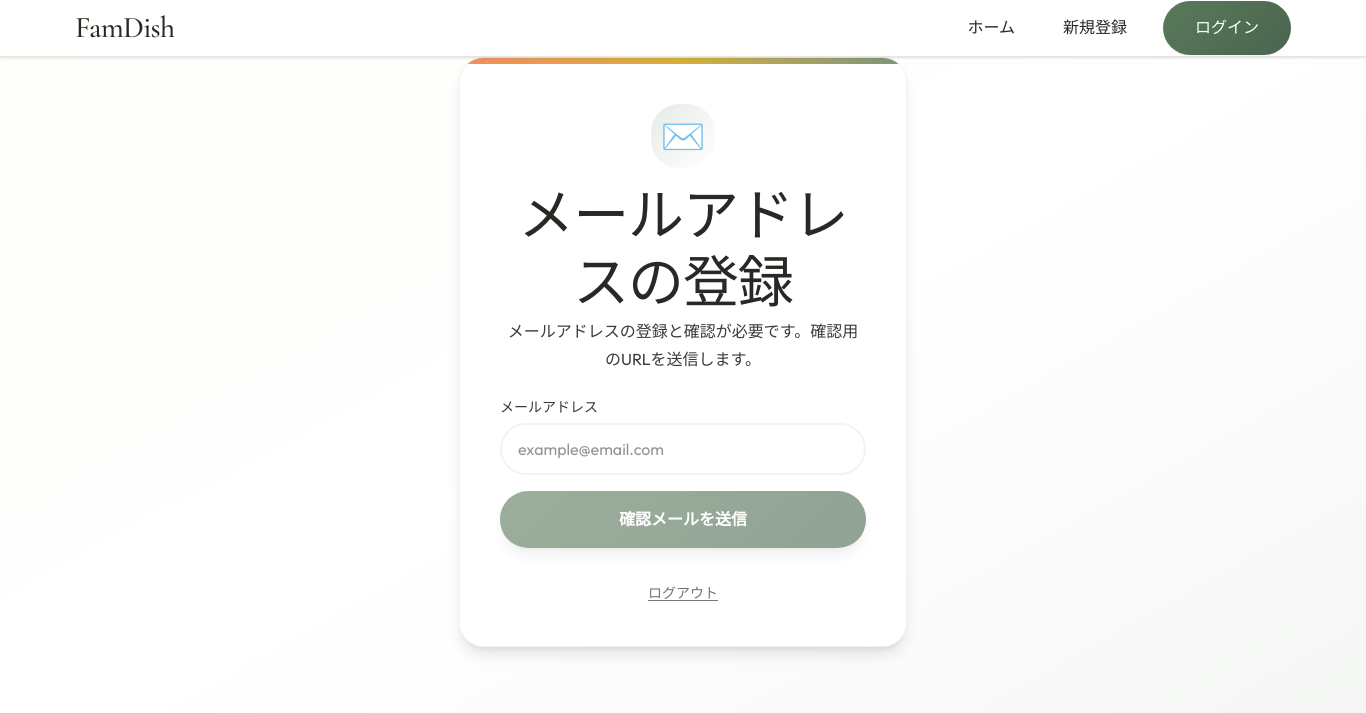
Test: RegisterEmailPage › 確認ダイアログの「キャンセル」でダイアログが閉じる
The image size is (1366, 713).
Type "existing@example.com" into the field labelled "メールアドレス". click: (683,449)
box: left=500, top=423, right=866, bottom=475
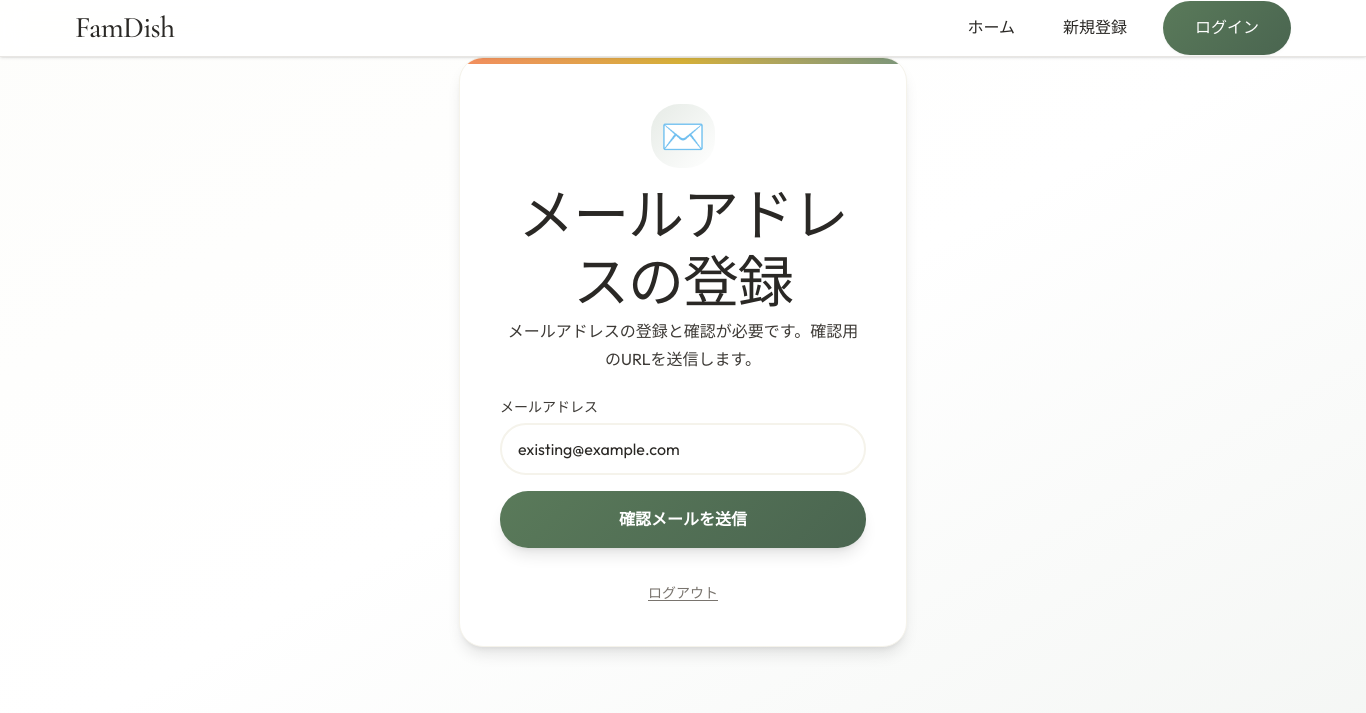
Submit the text "確認メールを送信", box left=500, top=397, right=866, bottom=548
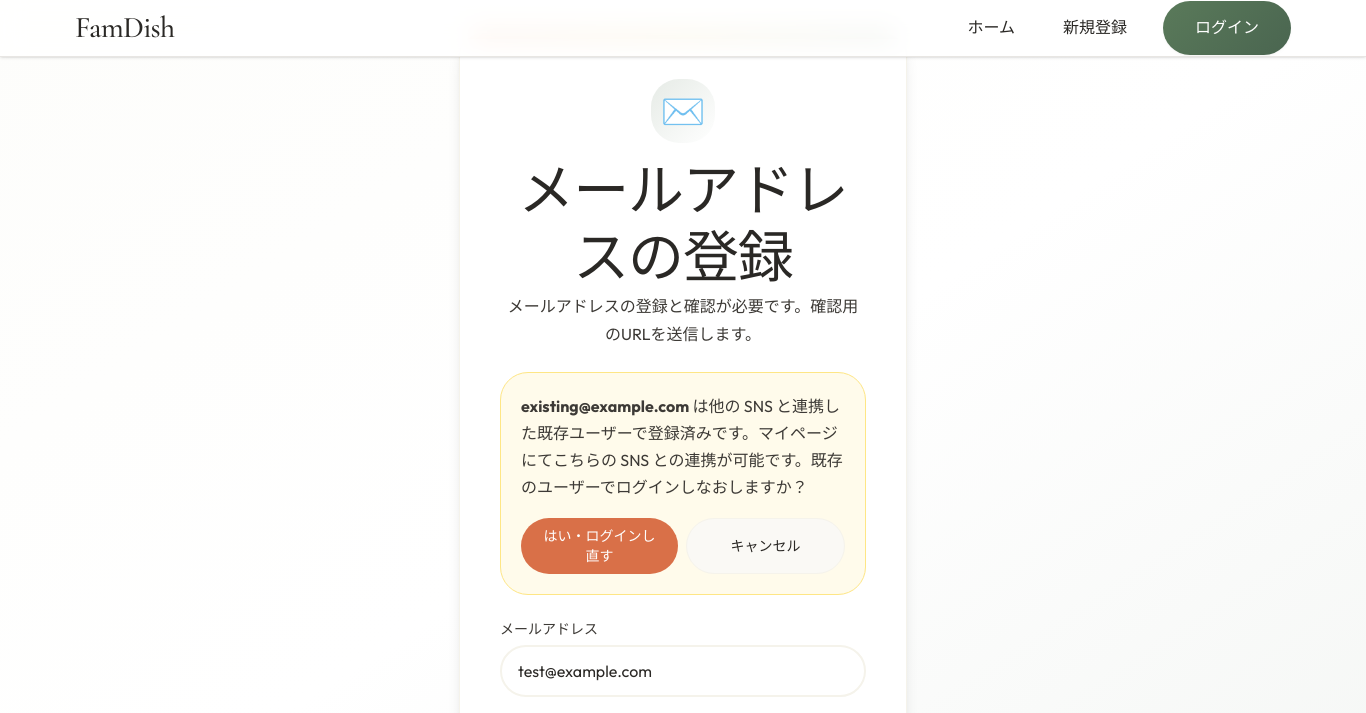
Result: the button "キャンセル" is shown
Click the button "キャンセル". click: (766,546)
box: left=686, top=518, right=845, bottom=574
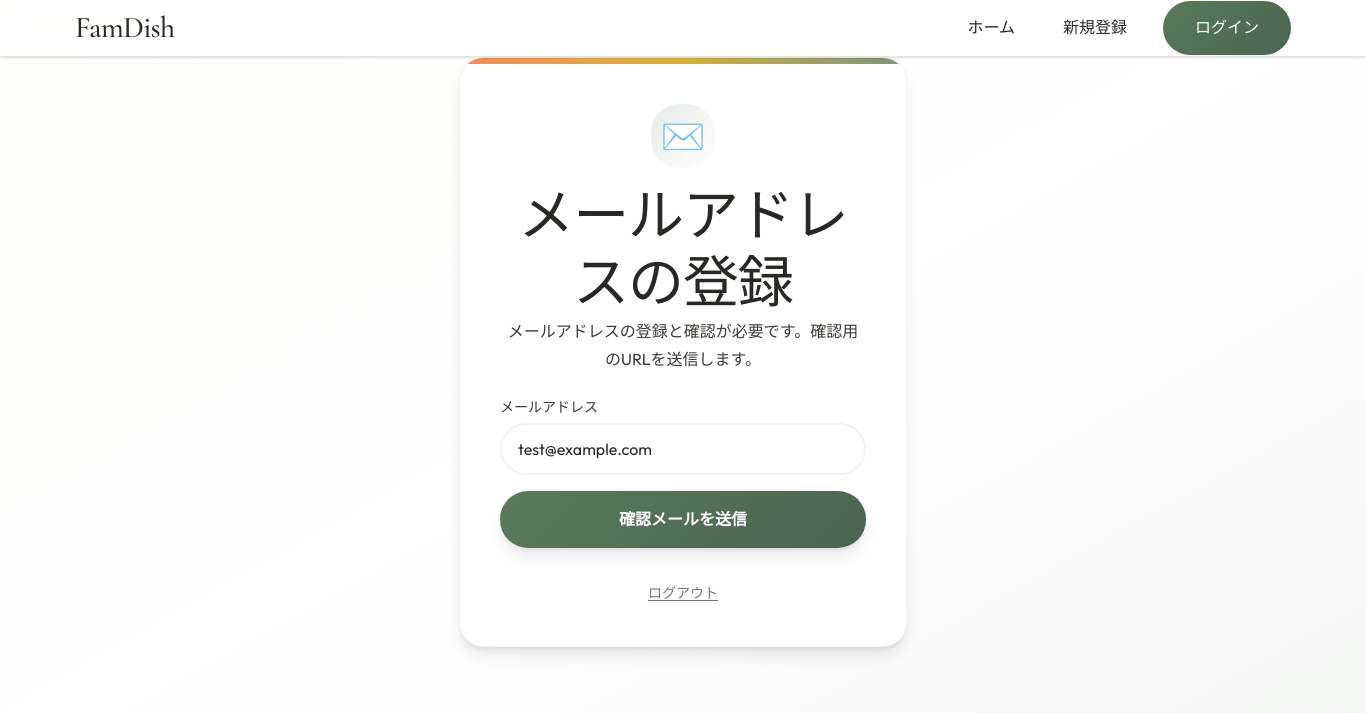
Result: the button "はい・ログインし直す" is gone
